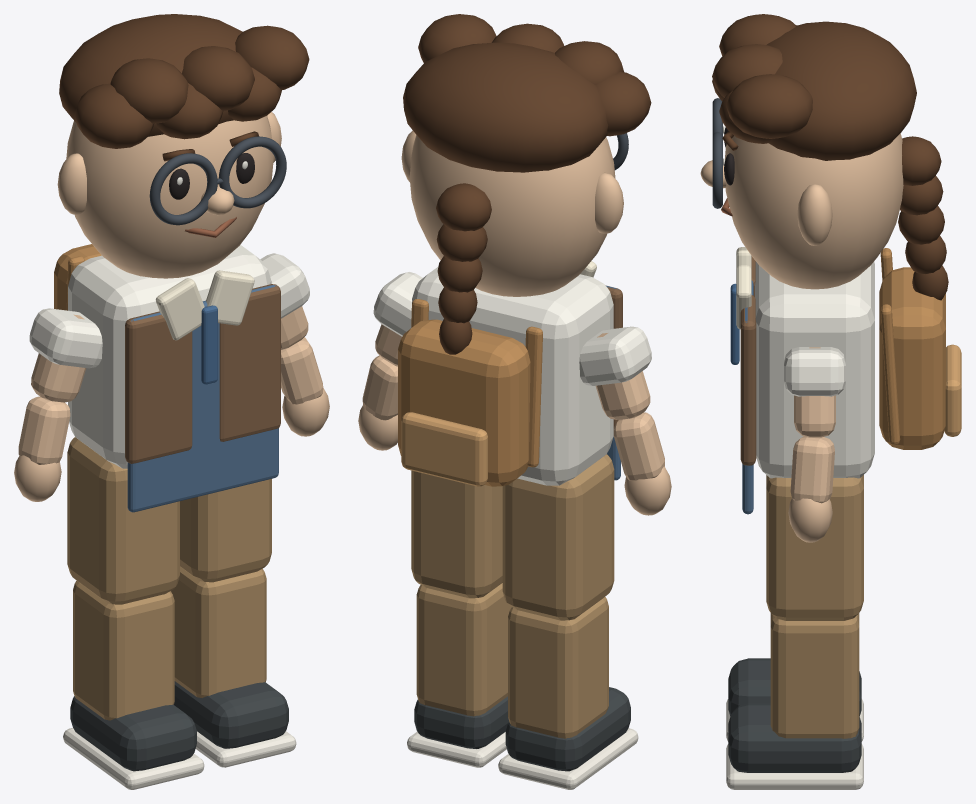
Rendered from modular-human.glb.
3 renders of one model, left to right at view 1: azimuth 30°, elevation 25°; view 2: azimuth 150°, elevation 25°; view 3: azimuth 270°, elevation 25°, orthographic.
Parts seen in each view (by area): view 1: module__outfit__apron__torso_mesh, module__hair__braid__head_mesh, student_knee_left_mesh, student_head, module__outfit__vest__torso_mesh, student_knee_right_mesh, trouser_thigh, trouser_thigh.001, student_elbow_left_mesh, module__accessory__glasses__head_mesh, student_elbow_right_mesh, sleeve.001 (+6 smaller); view 2: module__hair__braid__head_mesh, module__accessory__backpack__body_mesh, student_knee_left_mesh, student_head, module__outfit__apron__torso_mesh, student_knee_right_mesh, trouser_thigh, trouser_thigh.001, student_elbow_left_mesh, sleeve.001, student_elbow_right_mesh, sleeve.004 (+3 smaller); view 3: module__hair__braid__head_mesh, student_knee_right_mesh, module__outfit__apron__torso_mesh, student_head, module__accessory__backpack__body_mesh, trouser_thigh.001, student_elbow_right_mesh, module__outfit__vest__torso_mesh, sleeve.004, student_knee_left_mesh, ear.001, upper_arm.001 (+1 smaller).
Boxes of the visible parts, box(x1,y1,x2,y2) form: module__outfit__apron__torso_mesh: box(68, 245, 278, 512); module__hair__braid__head_mesh: box(59, 14, 309, 148); student_knee_left_mesh: box(63, 580, 204, 789); student_head: box(66, 116, 273, 278); module__outfit__vest__torso_mesh: box(125, 284, 280, 463); student_knee_right_mesh: box(171, 567, 296, 767); trouser_thigh: box(67, 437, 179, 604); trouser_thigh.001: box(180, 479, 271, 582); student_elbow_left_mesh: box(14, 396, 70, 501); module__accessory__glasses__head_mesh: box(149, 136, 286, 225); student_elbow_right_mesh: box(281, 337, 329, 436); sleeve.001: box(29, 308, 102, 368); module__hair__braid__head_mesh: box(403, 14, 651, 354); module__accessory__backpack__body_mesh: box(398, 299, 542, 486); student_knee_left_mesh: box(498, 597, 638, 789); student_head: box(409, 135, 615, 296); module__outfit__apron__torso_mesh: box(412, 261, 620, 485); student_knee_right_mesh: box(407, 583, 511, 767); trouser_thigh: box(502, 454, 614, 620); trouser_thigh.001: box(411, 470, 502, 598); student_elbow_left_mesh: box(613, 412, 671, 515); sleeve.001: box(579, 326, 651, 385); student_elbow_right_mesh: box(358, 355, 397, 450); sleeve.004: box(373, 272, 422, 336); module__hair__braid__head_mesh: box(712, 14, 948, 300); student_knee_right_mesh: box(726, 613, 863, 789); module__outfit__apron__torso_mesh: box(736, 247, 874, 514); student_head: box(725, 133, 903, 289); module__accessory__backpack__body_mesh: box(879, 248, 961, 449); trouser_thigh.001: box(766, 475, 863, 620); student_elbow_right_mesh: box(788, 436, 834, 542); module__outfit__vest__torso_mesh: box(730, 256, 756, 465); sleeve.004: box(784, 347, 845, 396); student_knee_left_mesh: box(726, 658, 863, 741); ear.001: box(797, 184, 832, 245); upper_arm.001: box(794, 347, 835, 437).
Bounding box in the file's own units: 0.81 × 1.77 × 0.588.
